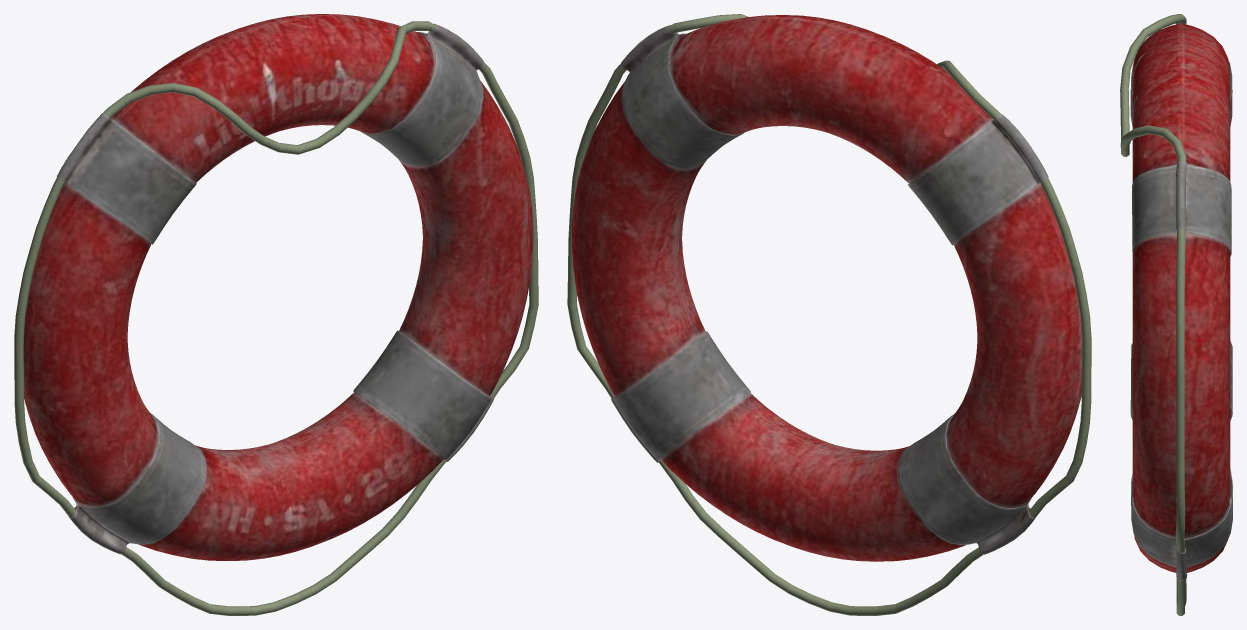
File: lifebuoy.glb
3 renders of one model, left to right at view 1: azimuth 30°, elevation 25°; view 2: azimuth 150°, elevation 25°; view 3: azimuth 270°, elevation 25°, orthographic. The views are drawn at different scales.
Parts seen in each view (by area): view 1: lifebuoy; view 2: lifebuoy; view 3: lifebuoy.
Boxes of the visible parts, x1,y1,x2,y2 form: lifebuoy: [14, 14, 538, 615]; lifebuoy: [567, 14, 1091, 615]; lifebuoy: [1120, 14, 1232, 615].
Bounding box in the file's own units: 0.7831 × 0.8412 × 0.1551.
1 material, 1 textured.
